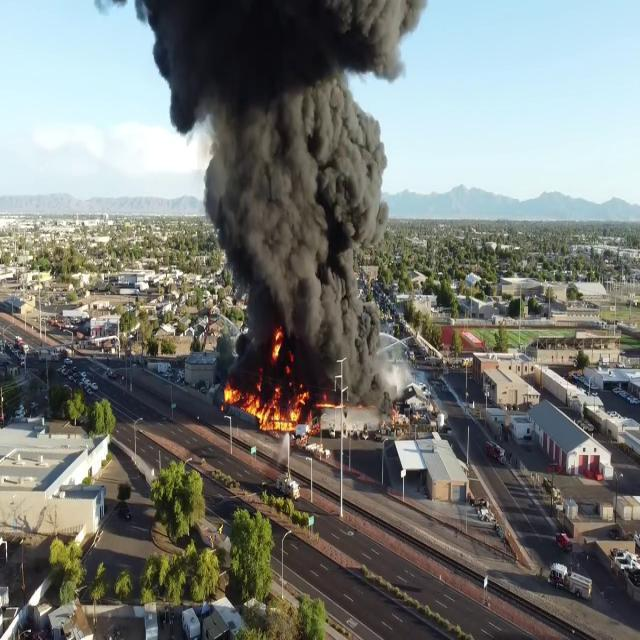Fire: (225, 374, 314, 432)
Smoke: (148, 0, 425, 399)
